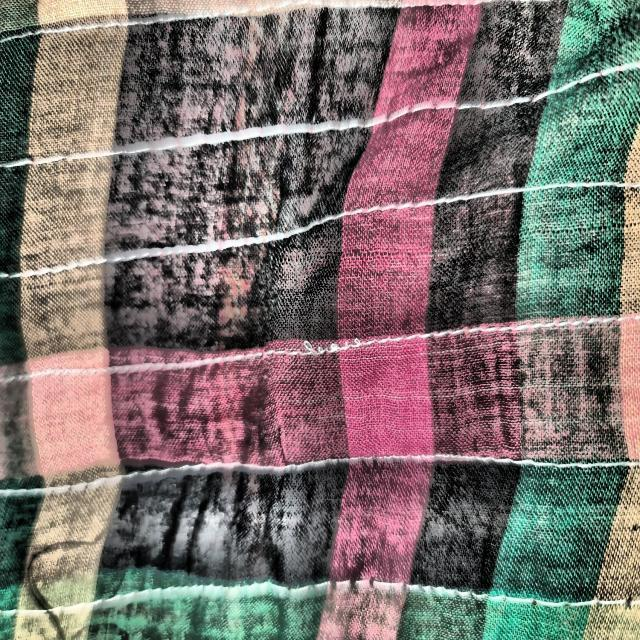gray stitch: (269, 333, 389, 366)
